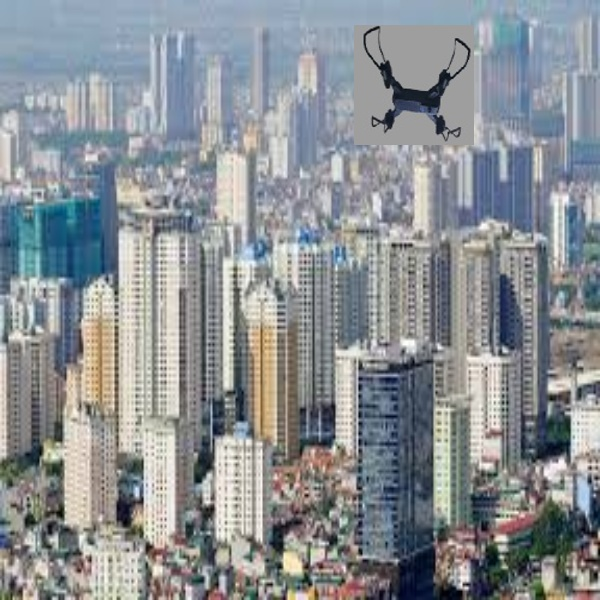drone: (355, 27, 477, 144)
